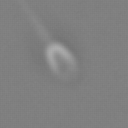normal: (17, 1, 53, 45)
